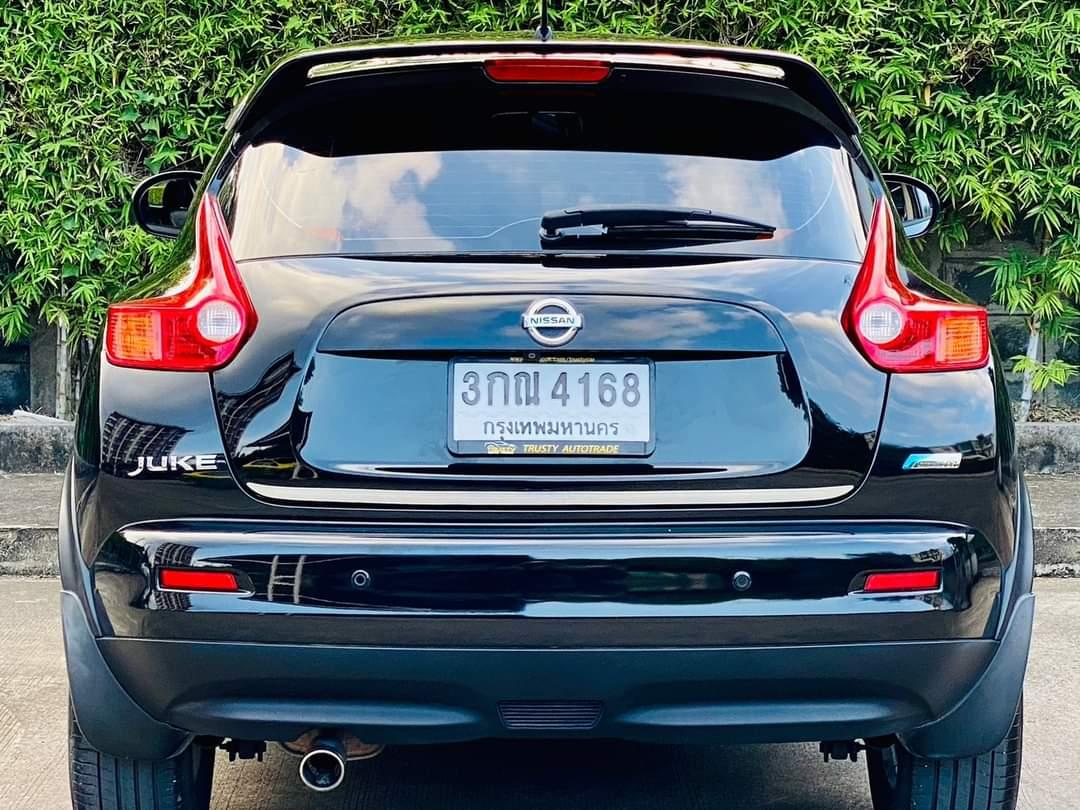license-plate: (440, 341, 664, 468)
